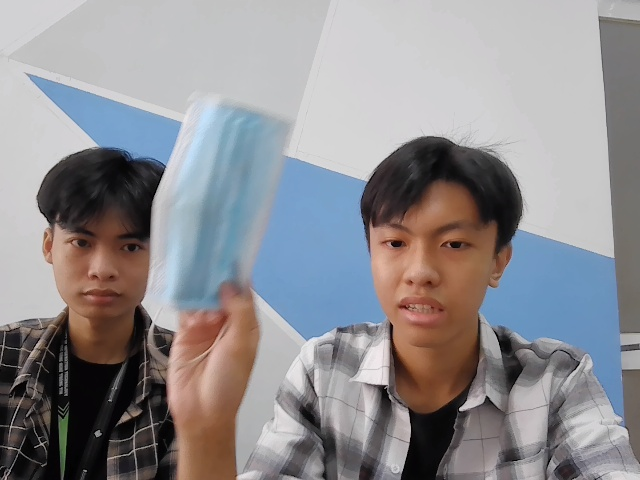human: (360, 134, 519, 345), (41, 147, 163, 317)
mask: (152, 96, 282, 313)
